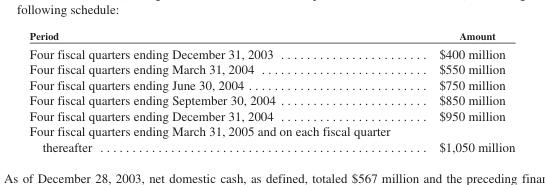table: (28, 28, 514, 153)
table column: (28, 28, 413, 153), (413, 28, 514, 153)
table column header: (28, 28, 514, 43)
table row: (28, 123, 514, 153), (28, 43, 514, 61), (28, 76, 514, 92), (28, 107, 514, 123), (28, 28, 514, 43), (28, 61, 514, 76), (28, 92, 514, 107)
